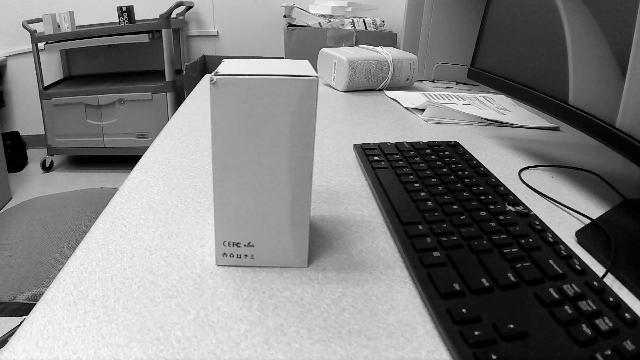CameraBox1: (210, 58, 319, 268)
